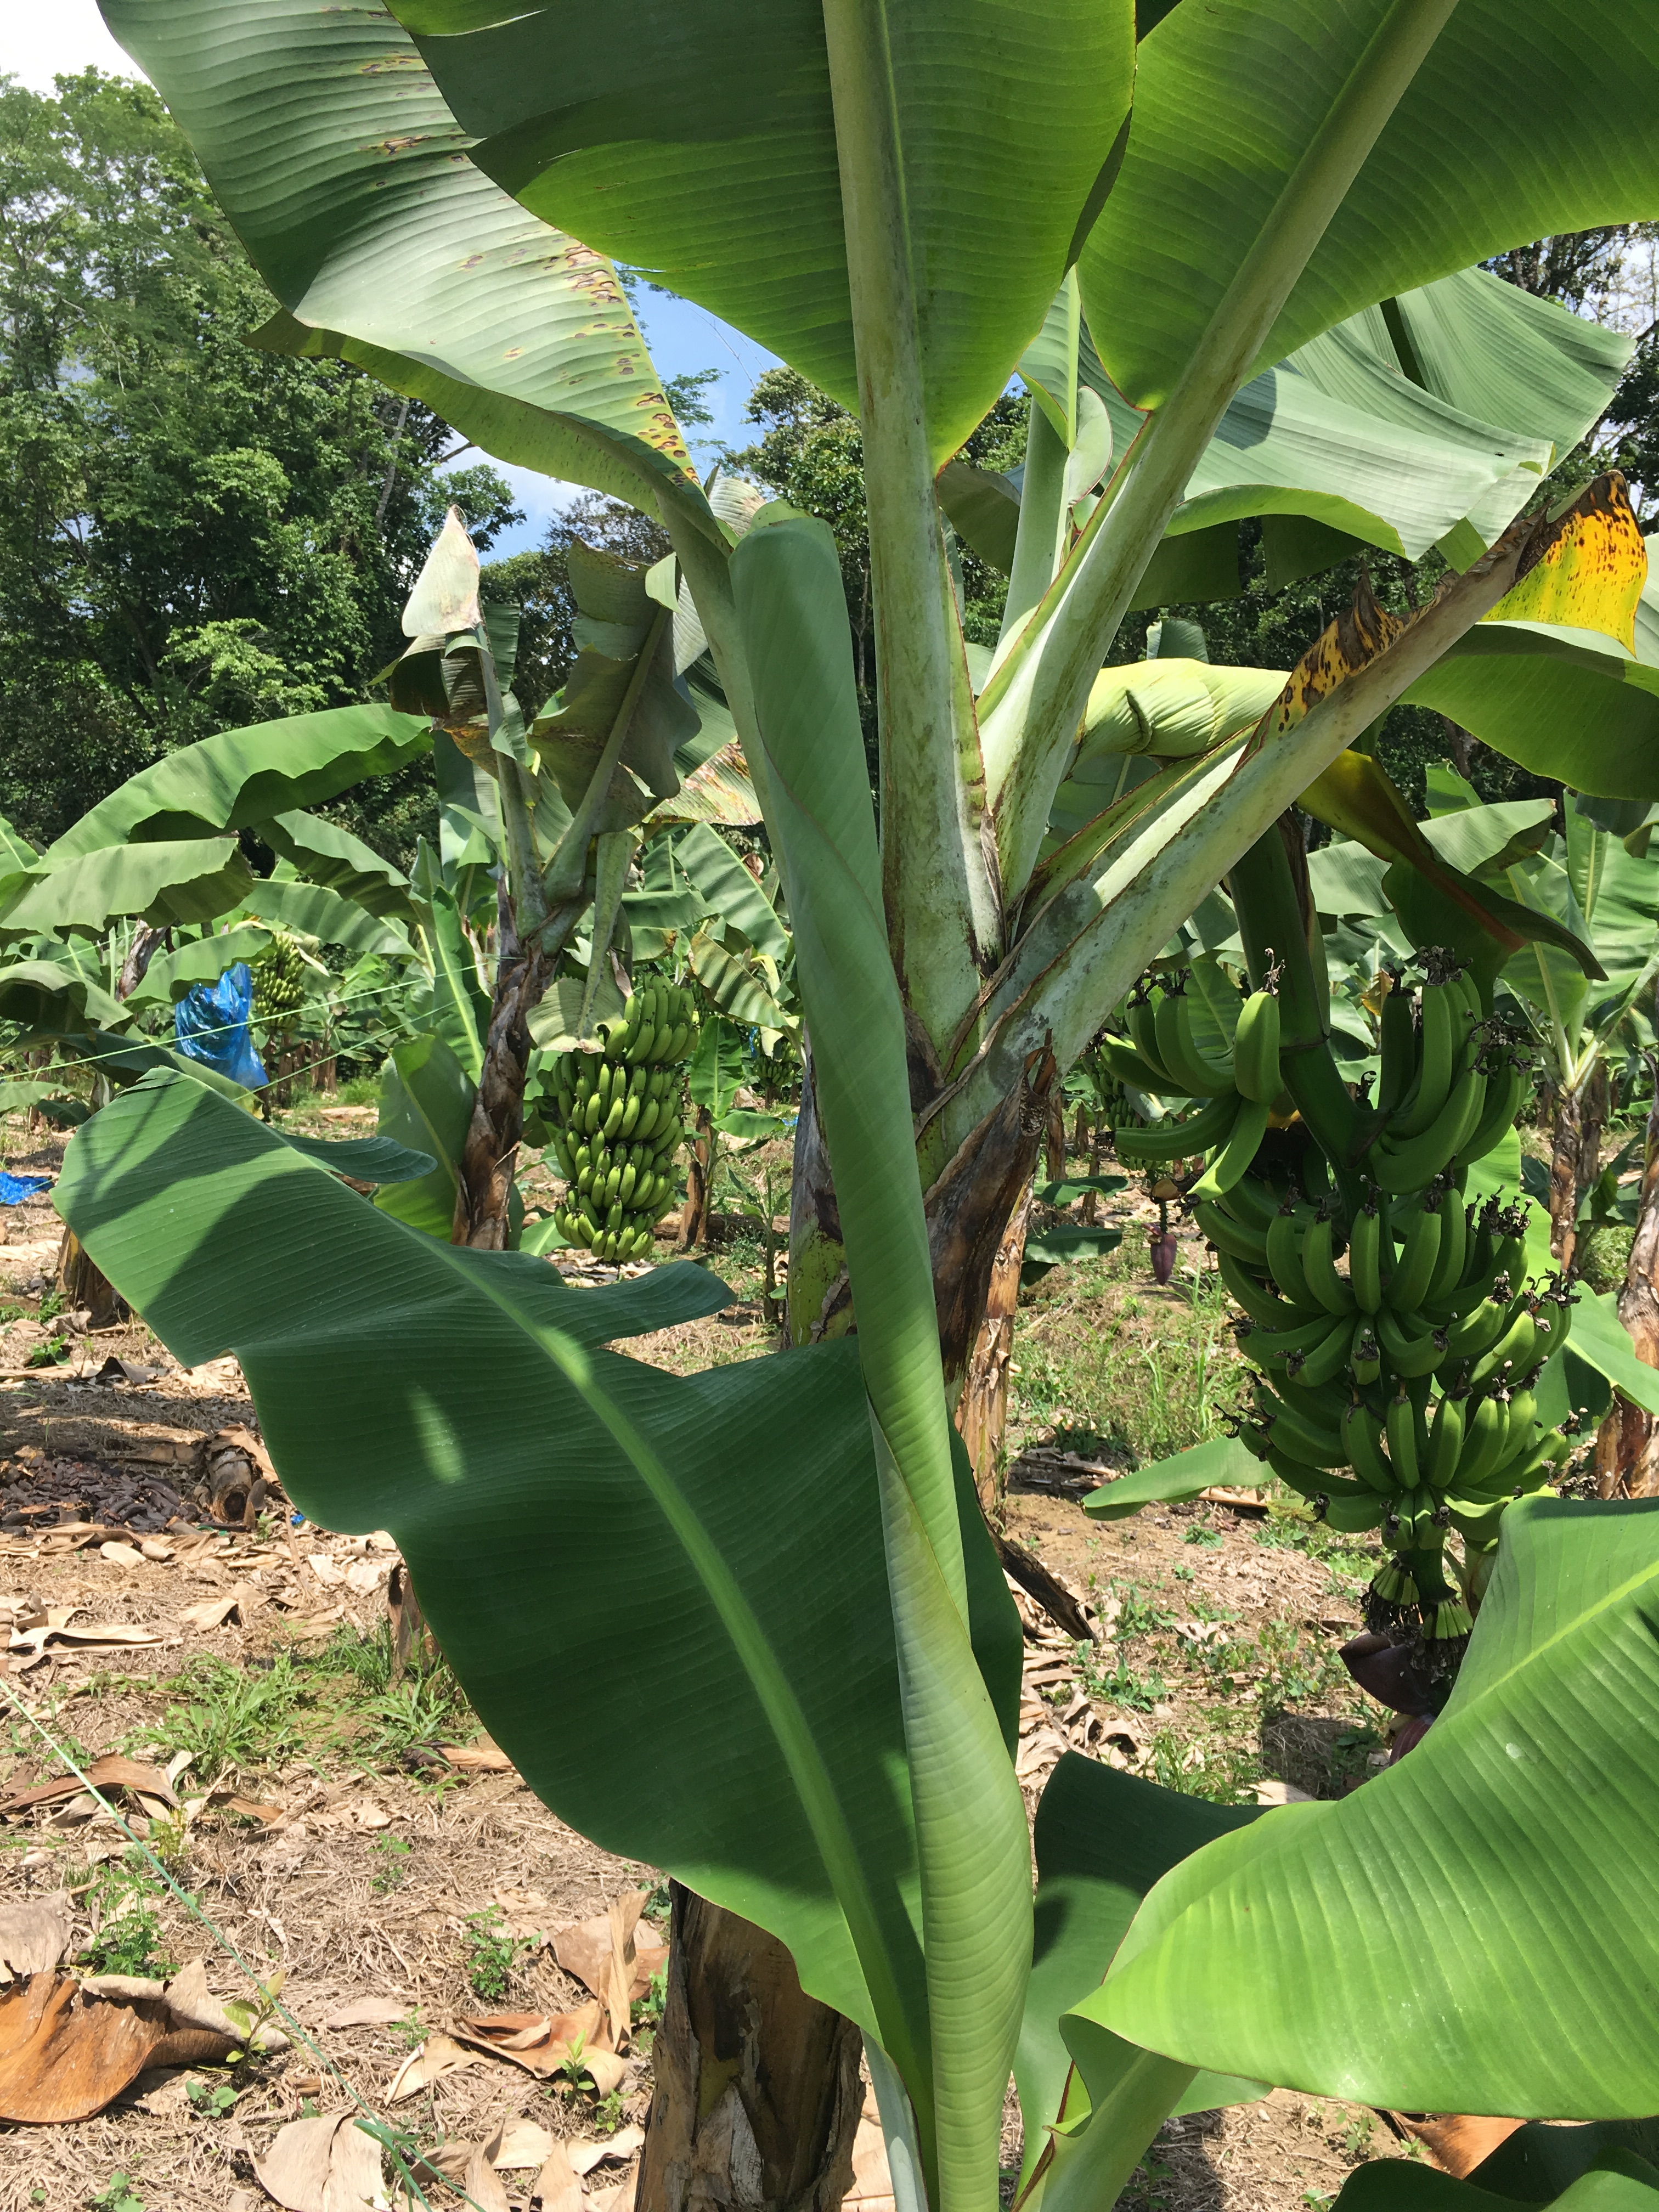candleleafs: (723, 503, 1042, 2088)
